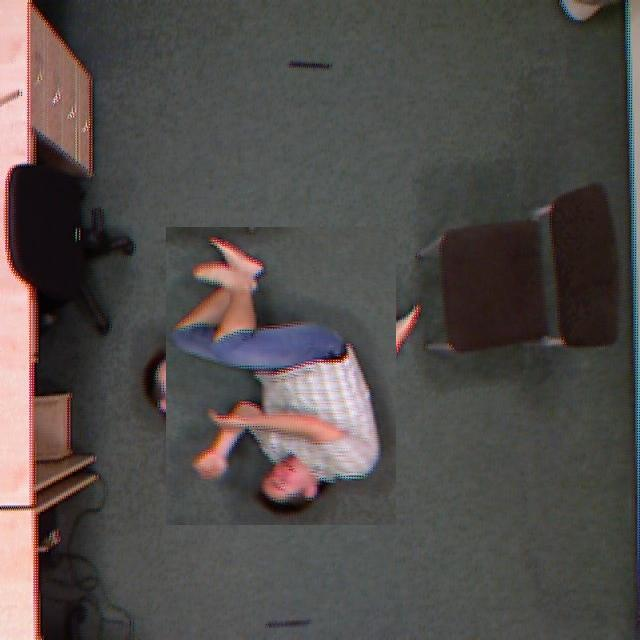Fall: (155, 234, 375, 516)
